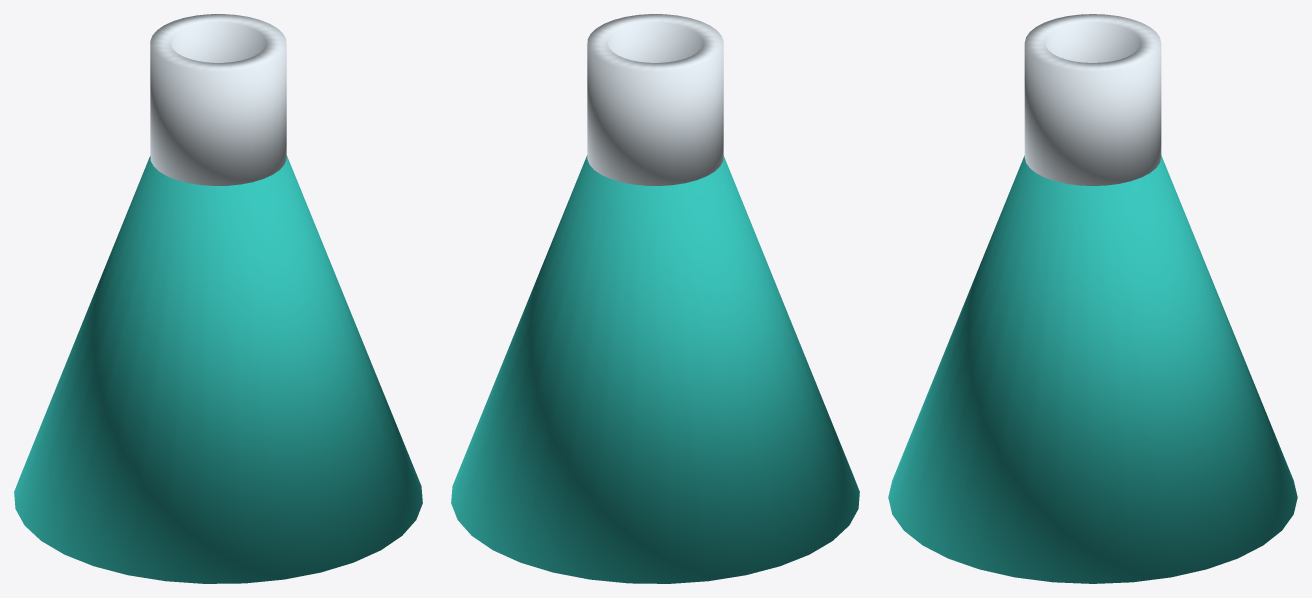
The model's file is conical-flask-lite.glb.
The picture shows the model from 3 angles, left to right: view 1: azimuth 30°, elevation 25°; view 2: azimuth 150°, elevation 25°; view 3: azimuth 270°, elevation 25°; orthographic projection.
Visible parts, largest first — view 1: Flask body; view 2: Flask body; view 3: Flask body.
Boxes of the visible parts, x1,y1,x2,y2 form: Flask body: [14, 14, 422, 583]; Flask body: [451, 14, 859, 583]; Flask body: [888, 14, 1297, 583].
Size of the model in its own units: 1.2 by 1.47 by 1.2.
